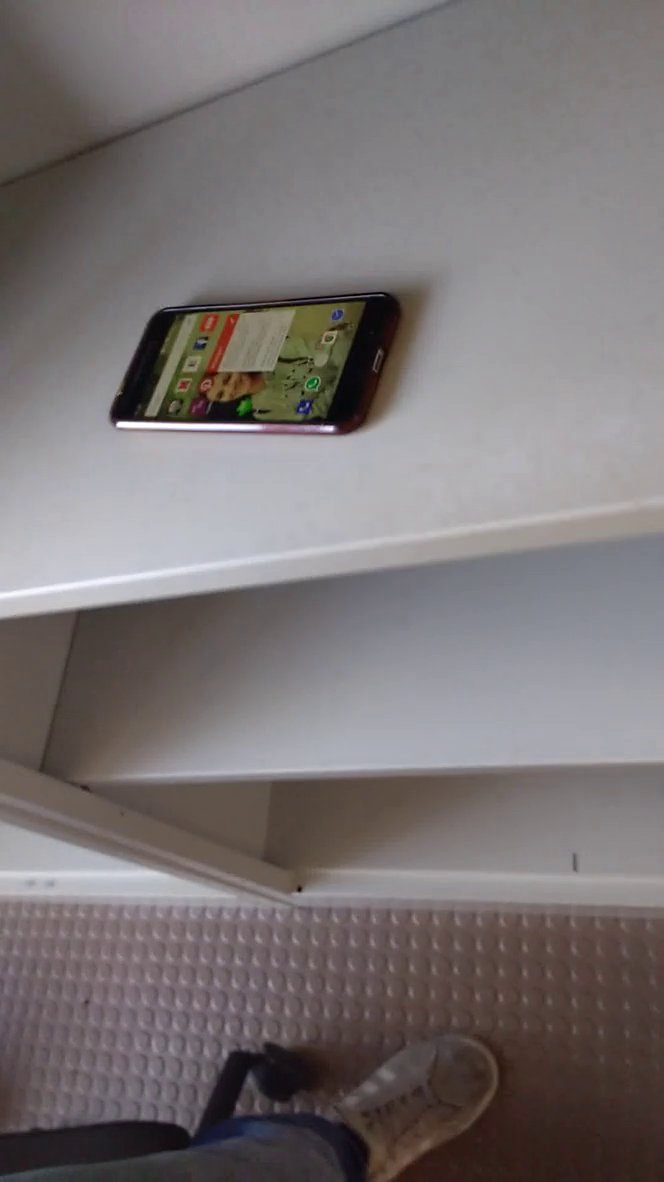phone: (101, 284, 418, 445)
